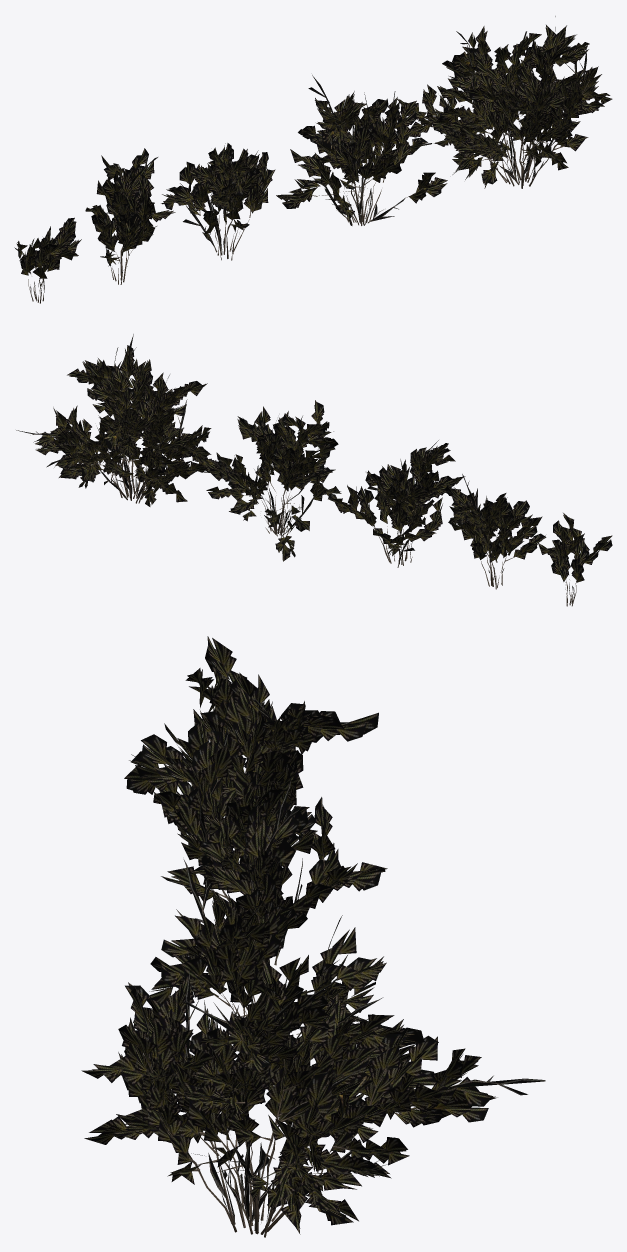
Rendered from bush.glb.
The picture shows the model from 3 angles, top to bottom: view 1: azimuth 30°, elevation 25°; view 2: azimuth 150°, elevation 25°; view 3: azimuth 270°, elevation 25°; orthographic projection. The views are drawn at different scales.
Visible parts, largest first — view 1: wild_rooibos_bush_a; view 2: wild_rooibos_bush_a; view 3: wild_rooibos_bush_a.
Part boxes in pixels (box(x1,y1,x2,y2)): wild_rooibos_bush_a: box(14, 16, 612, 303); wild_rooibos_bush_a: box(16, 334, 612, 606); wild_rooibos_bush_a: box(81, 636, 545, 1237).
Bounding box in the file's own units: 2.27 × 0.5409 × 0.8285.
Materials: 2 (2 with a texture image).
